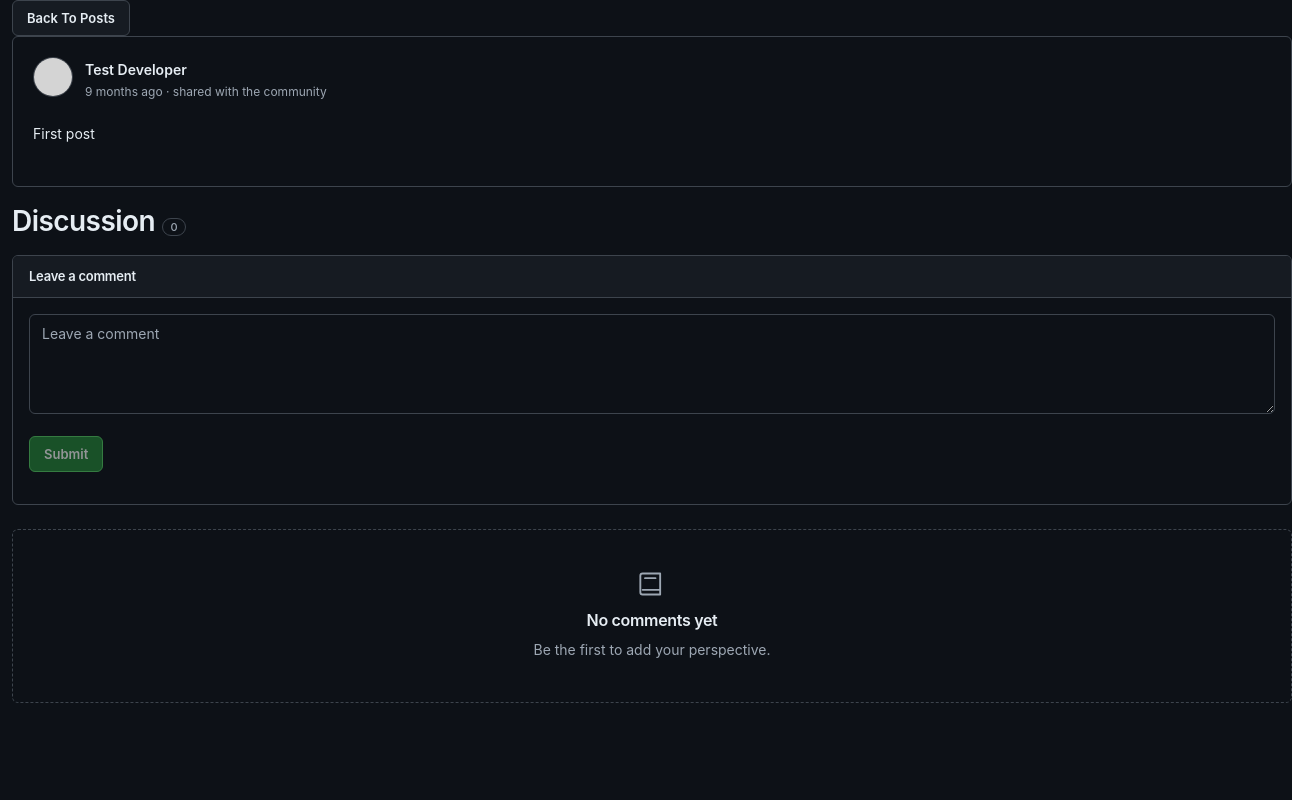
discussion adds and deletes comments with ownership controls
The image size is (1292, 800).
Check: the text "First post" is shown, box [33,125,95,142]
Type "A reply" into the text box with placeholder "Leave a comment".
click(652, 364); type("A reply")  # box [29,314,1275,414]
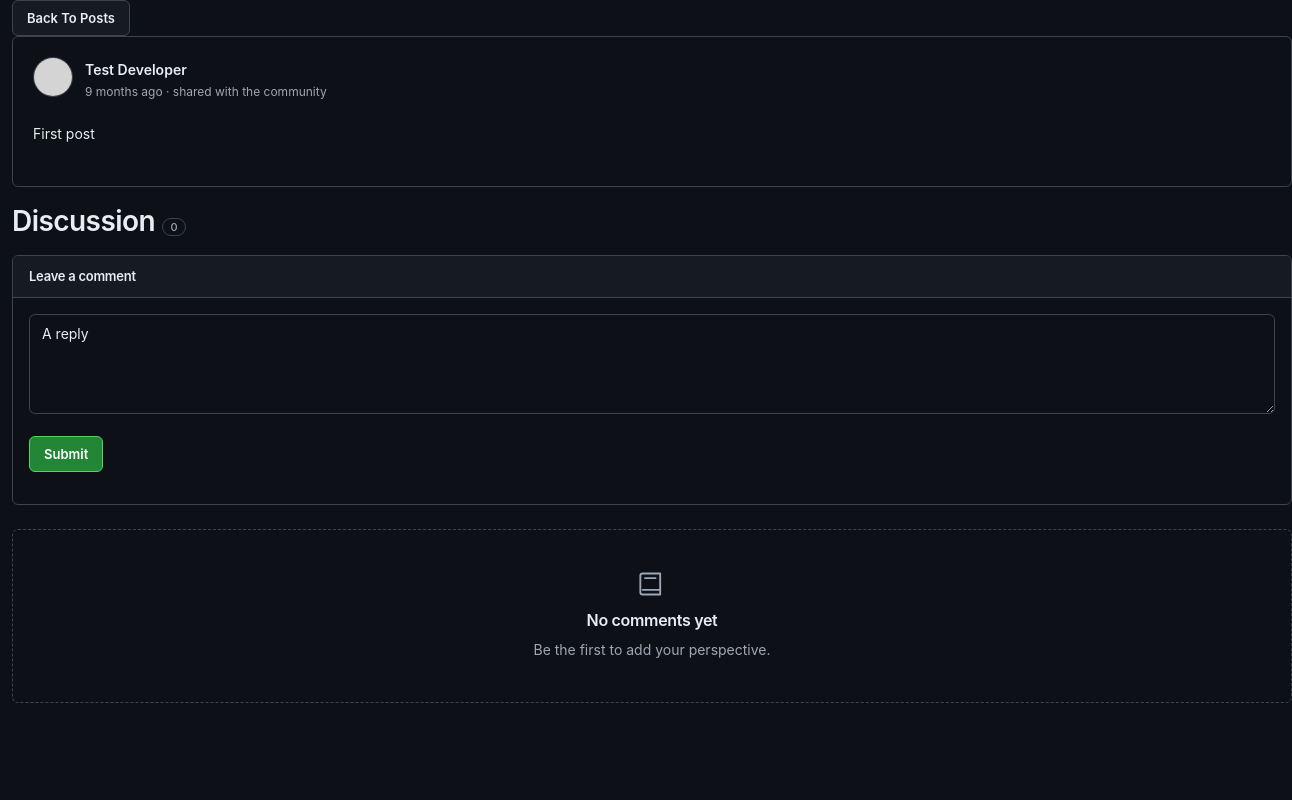
Click the button "Submit".
click(66, 454)  # box [29,436,103,472]
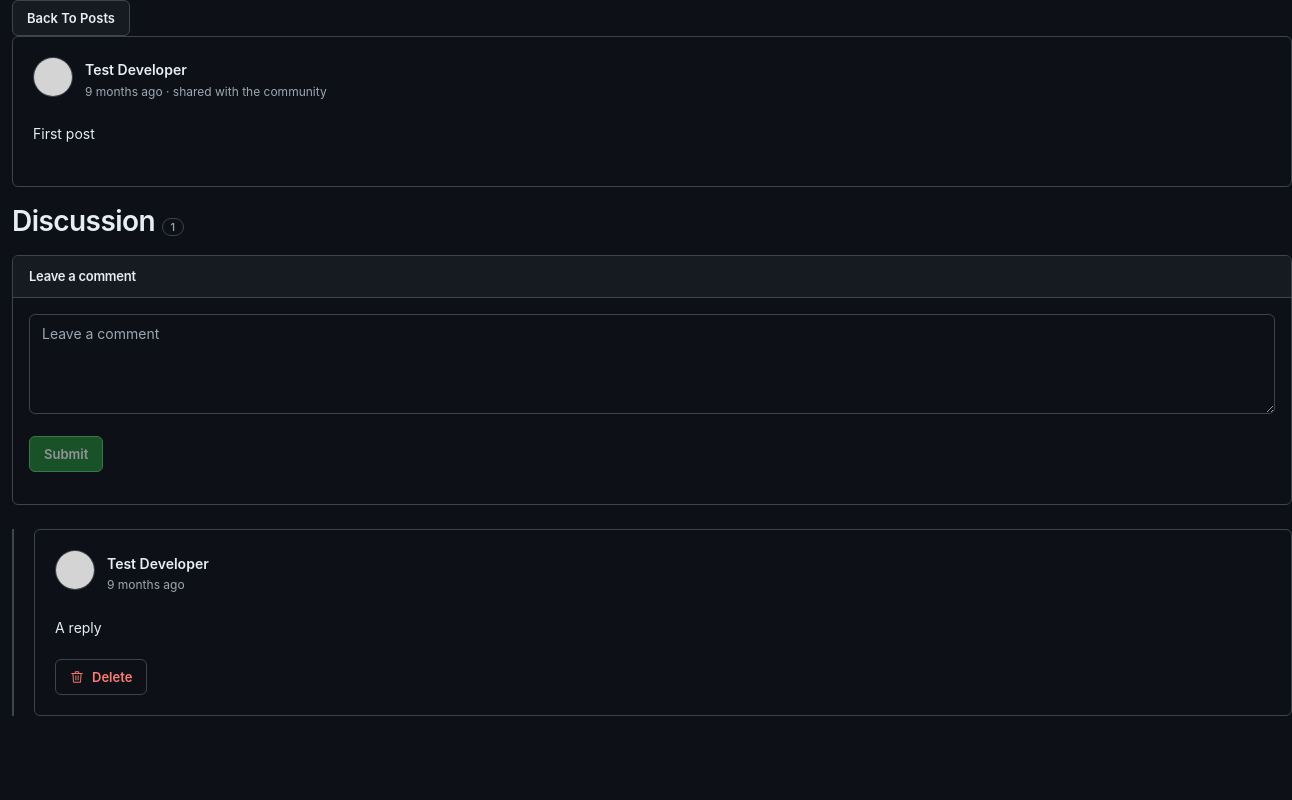
Check: the text "A reply" is shown, box [55,619,102,636]
Click the button "Delete".
click(101, 677)  # box [55,659,147,695]
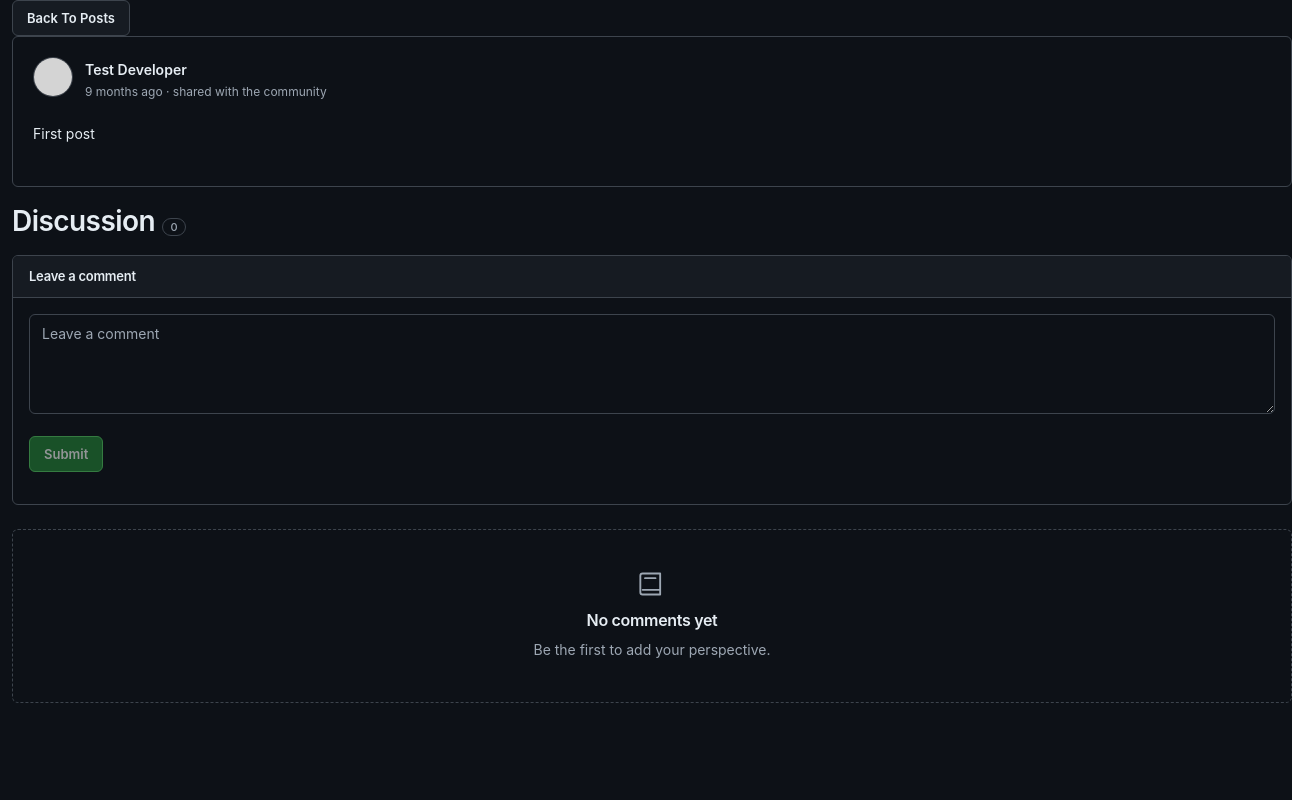
Check: the text "A reply" is gone
